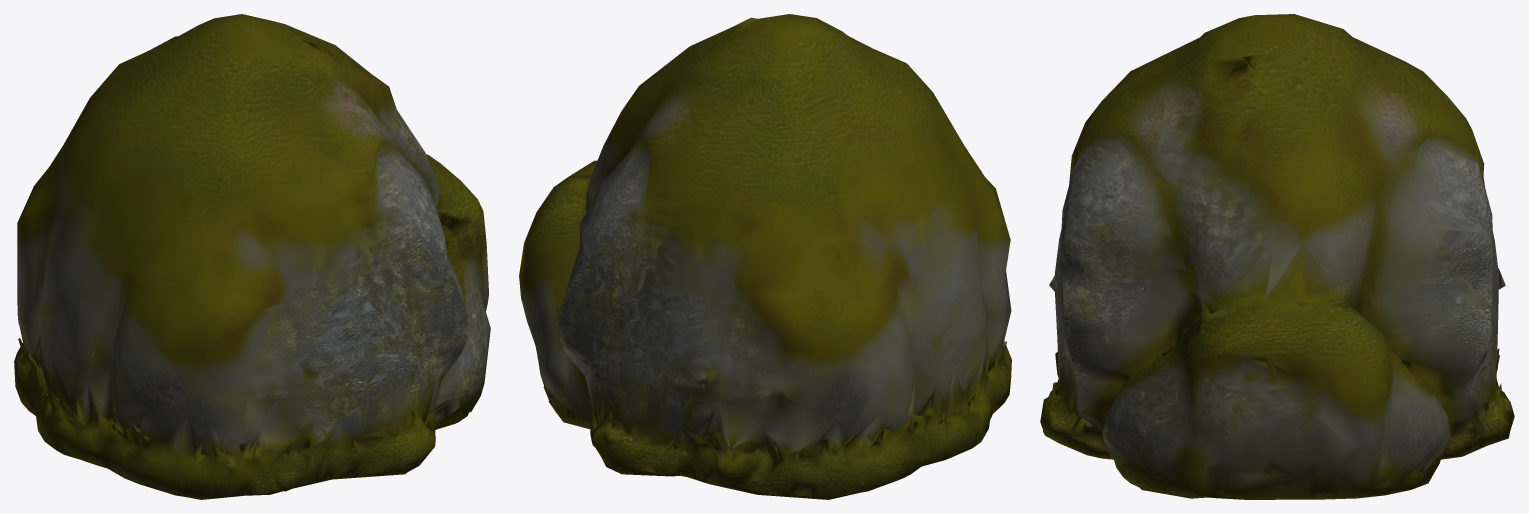
The model's file is SteppeBoulder.fbx.
3 renders of one model, left to right at view 1: azimuth 30°, elevation 25°; view 2: azimuth 150°, elevation 25°; view 3: azimuth 270°, elevation 25°, orthographic. The views are drawn at different scales.
Parts seen in each view (by area): view 1: SteppeBoulder_Body; view 2: SteppeBoulder_Body; view 3: SteppeBoulder_Body.
Part boxes in pixels (<box>): SteppeBoulder_Body: <box>14,14,490,499</box>; SteppeBoulder_Body: <box>519,14,1011,499</box>; SteppeBoulder_Body: <box>1040,14,1514,499</box>.
Size of the model in its own units: 1.14 by 1 by 1.08.
Materials: 1 (1 with a texture image).
